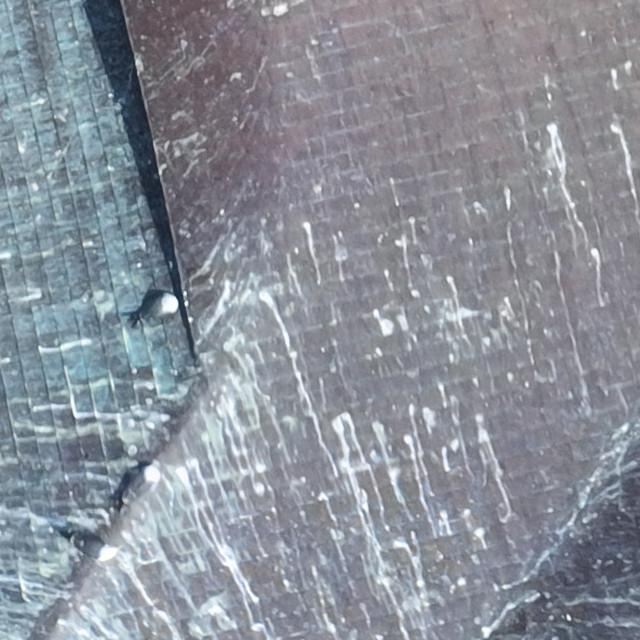umineko: (120, 466, 157, 502), (71, 536, 113, 559), (143, 294, 177, 321)
